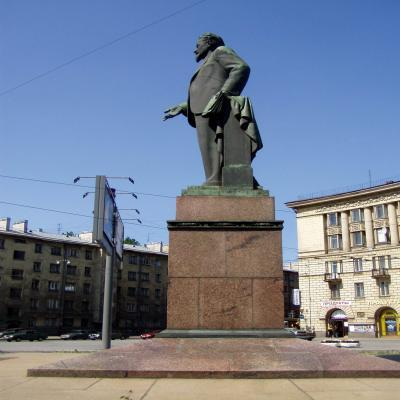sculpture: (0, 33, 400, 400)
